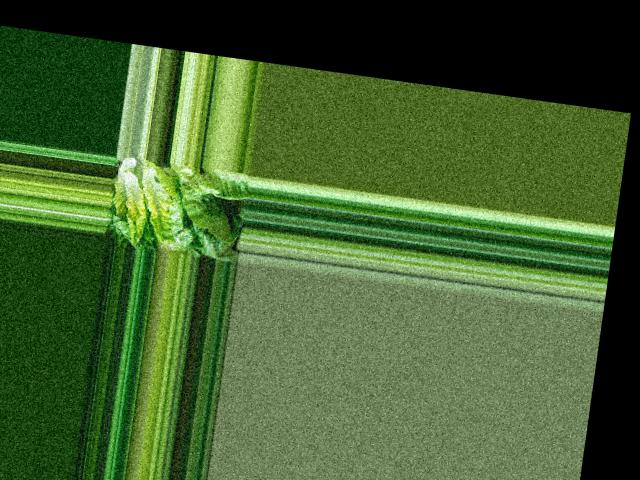lettuce: (107, 154, 204, 250)
